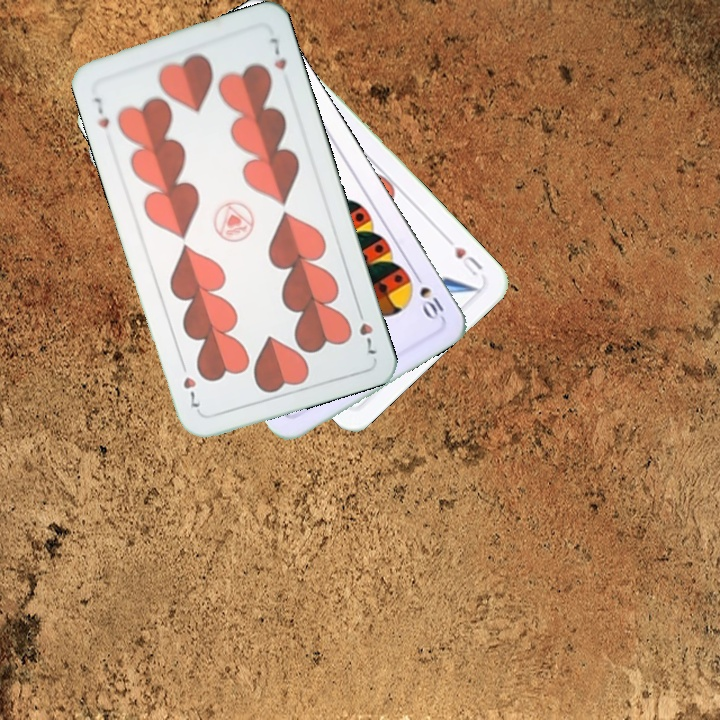H7: (353, 302, 379, 357), (90, 93, 112, 131)
HU: (449, 242, 485, 279)
S10: (409, 268, 447, 322)
